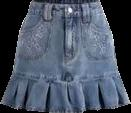Hemline: (0, 102, 130, 112)
Waistline: (12, 71, 118, 83), (27, 10, 103, 16), (32, 0, 99, 3)
